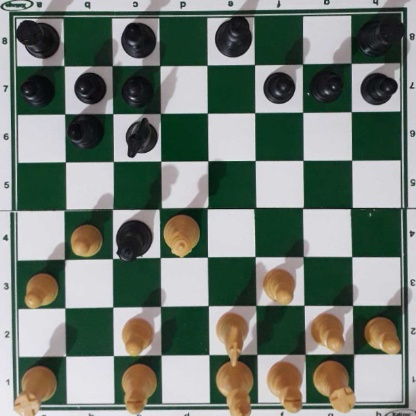black-bishop: (119, 19, 157, 56), (64, 115, 103, 149)
black-king: (212, 14, 254, 56)
black-knight: (123, 116, 156, 155)
black-pawn: (360, 69, 396, 105), (310, 68, 344, 101), (263, 67, 295, 102), (73, 69, 105, 104), (20, 72, 54, 103), (121, 71, 152, 105)
black-queen: (114, 219, 154, 264)
black-rook: (12, 16, 60, 58), (358, 10, 402, 55)
white-bishop: (265, 361, 303, 414), (121, 361, 157, 414)
white-king: (214, 358, 254, 416)
white-knight: (215, 311, 249, 364)
white-pawn: (309, 310, 347, 350), (363, 314, 400, 351), (21, 271, 58, 307), (120, 315, 154, 354), (68, 221, 104, 257), (261, 265, 295, 303)
white-queen: (163, 213, 200, 258)
white-rook: (15, 360, 55, 415), (312, 363, 353, 409)
